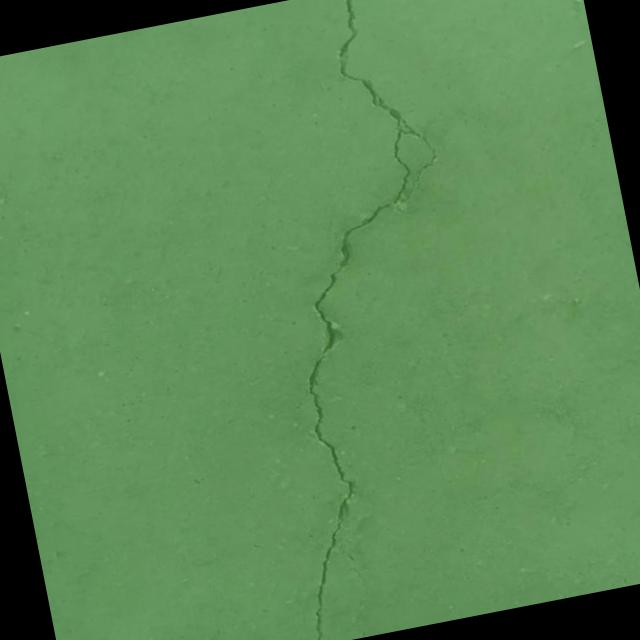crack: (195, 0, 526, 640)
